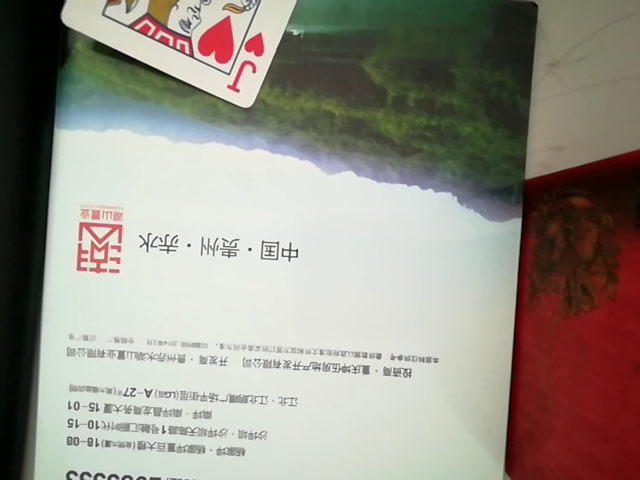hx q: (57, 0, 375, 116)
